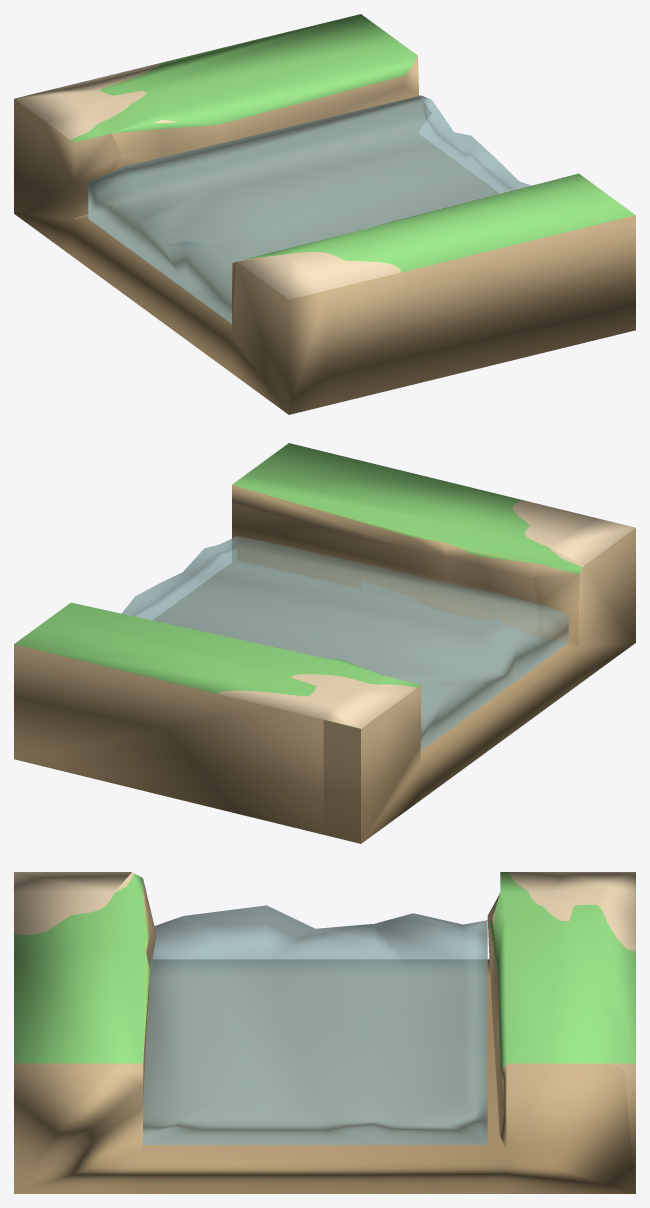
Rendered from gorund_right1.fbx.
3 renders of one model, top to bottom at view 1: azimuth 30°, elevation 25°; view 2: azimuth 150°, elevation 25°; view 3: azimuth 270°, elevation 25°, orthographic. The views are drawn at different scales.
Parts seen in each view (by area): view 1: baseleft, river2; view 2: baseleft, river2; view 3: baseleft, river2.
Boxes of the visible parts, box(x1,y1,x2,y2) form: baseleft: box(14, 14, 635, 414); river2: box(88, 95, 531, 323); baseleft: box(14, 443, 635, 843); river2: box(122, 536, 568, 750); baseleft: box(14, 872, 635, 1193); river2: box(143, 905, 487, 1144).
Size of the model in its own units: 10.59 by 3.43 by 14.08.
Materials: 5 (3 with a texture image).
